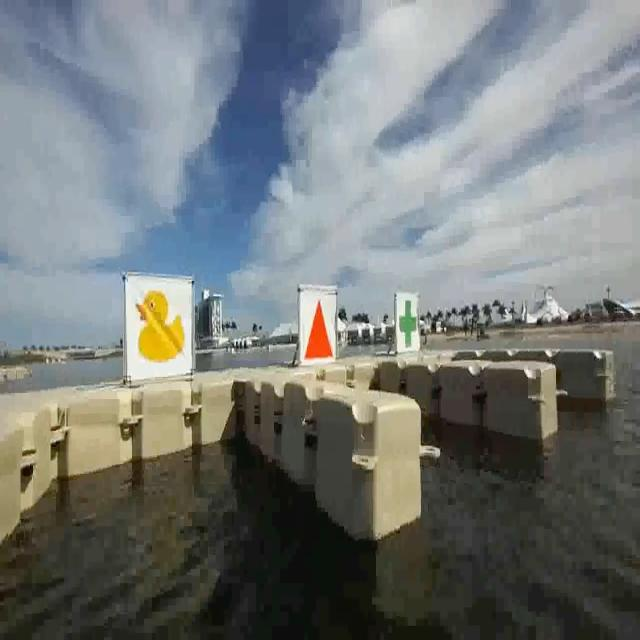blue-cross: (398, 291, 419, 358)
red-dot: (304, 289, 334, 369)
yellow-duck: (137, 287, 186, 361)
